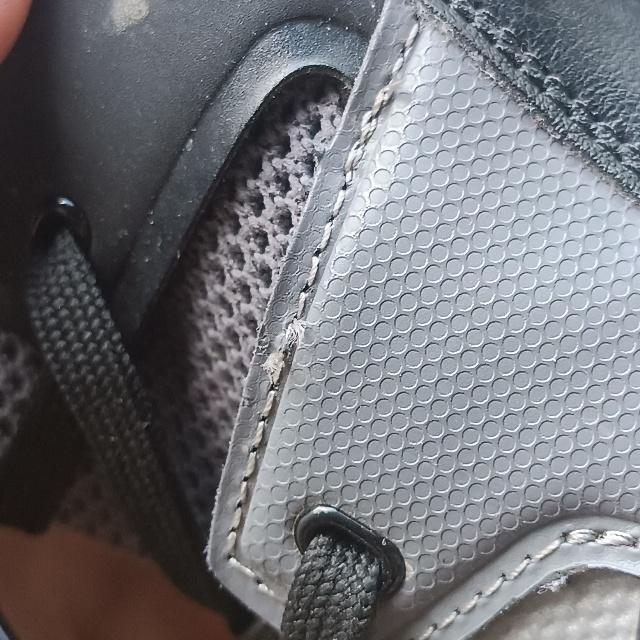broken-error: (250, 311, 306, 395)
